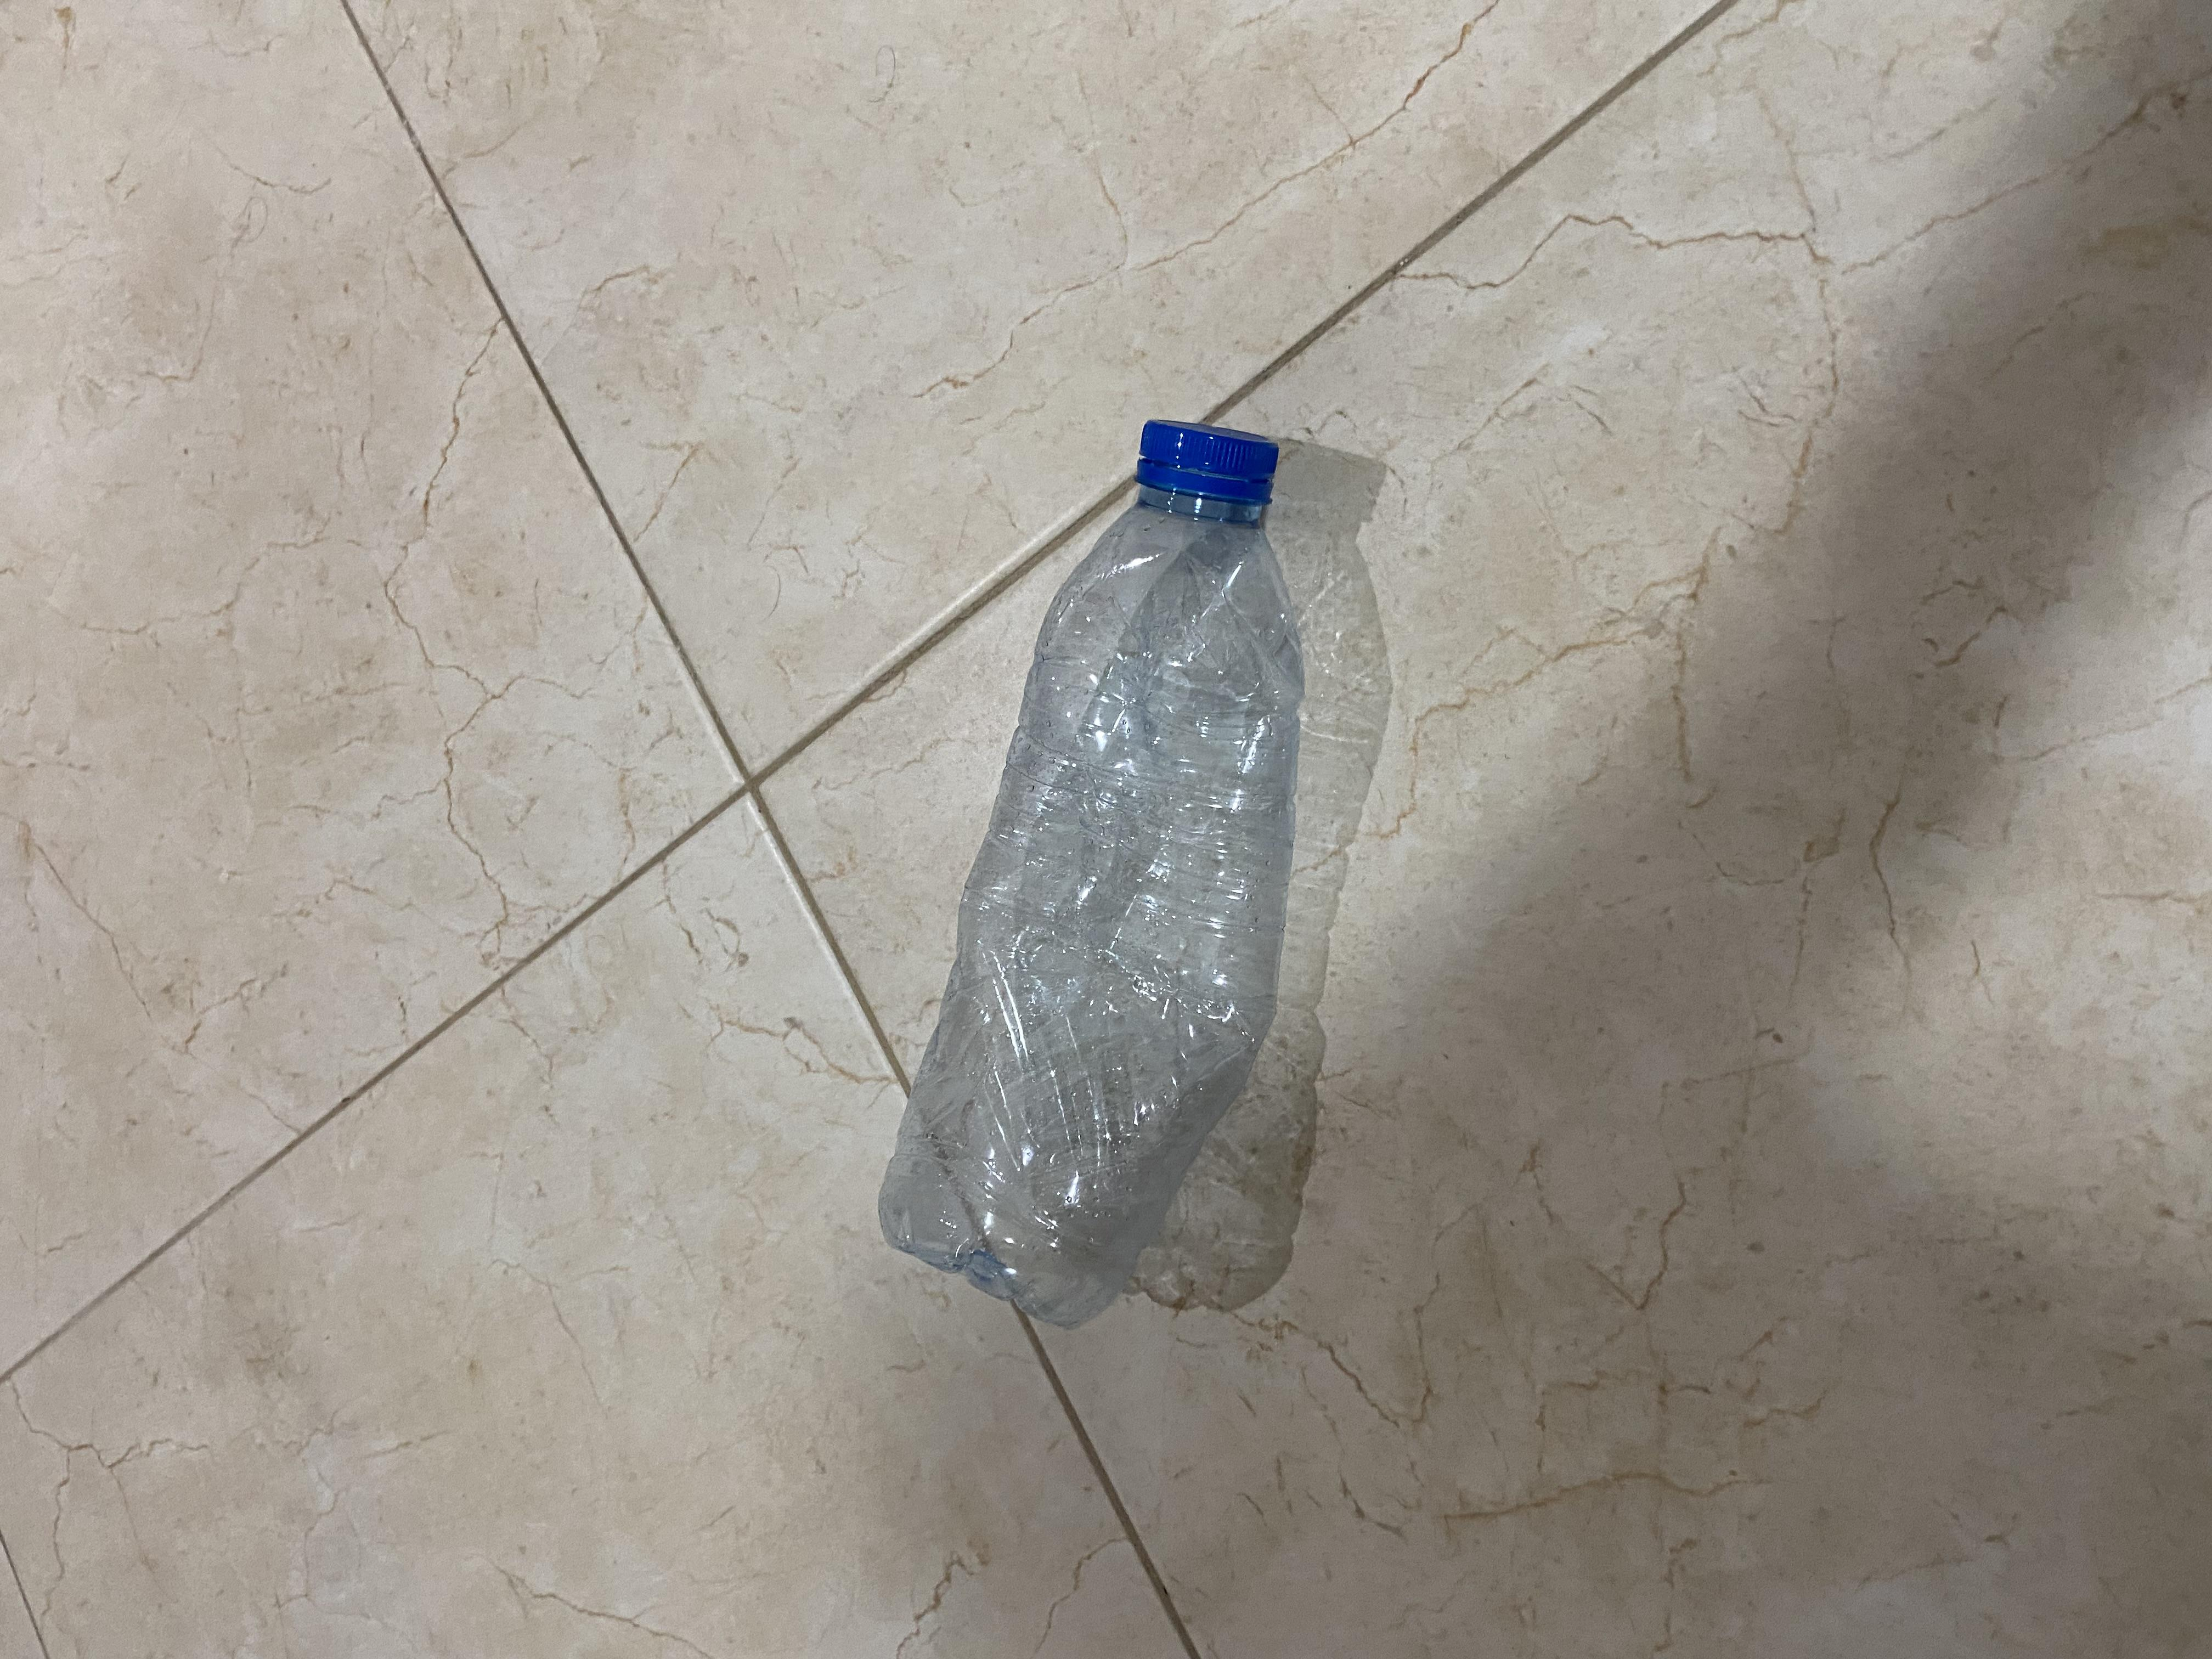bottle: (463, 655, 1700, 986)
